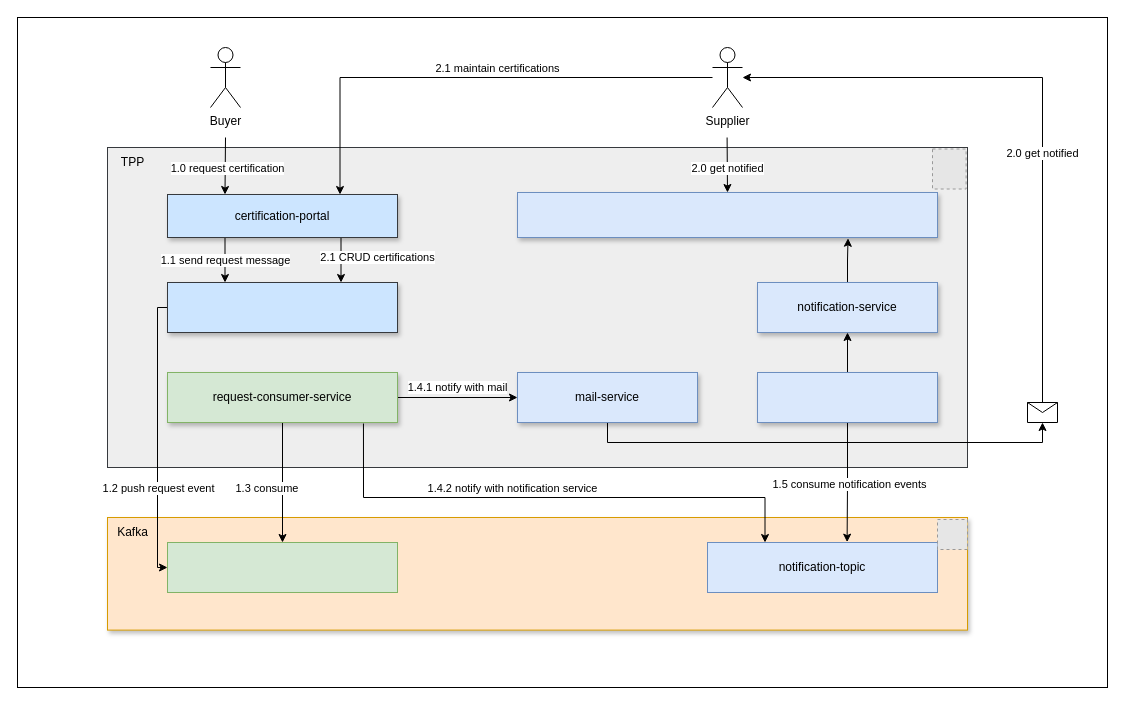
Image size: 1125x705. Some labels were removed from this diagram. Grey dashed boxes stand in for pictures. Each missing label, with the centre of its shape:
"certification-service" goes at point (283, 309).
"notification-consumer-service" goes at point (848, 399).
"portal-profile" goes at point (728, 216).
"request-topic" goes at point (282, 567).
